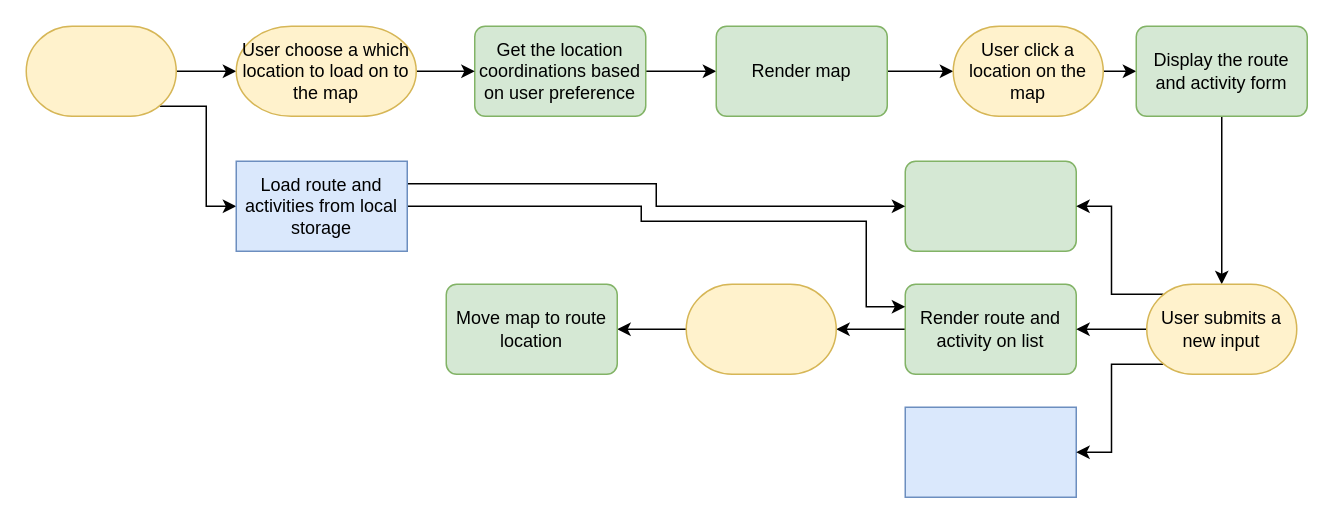
Image size: 1334x524. Some labels were removed from this diagram. Each missing label, with the centre of its shape:
"Page loads" goes at (x=100, y=70).
"Render route and activity on map" goes at (x=990, y=205).
"Store route and activity on in local storage" goes at (x=990, y=451).
"User clicks on route and activity on the list" goes at (x=760, y=328).
